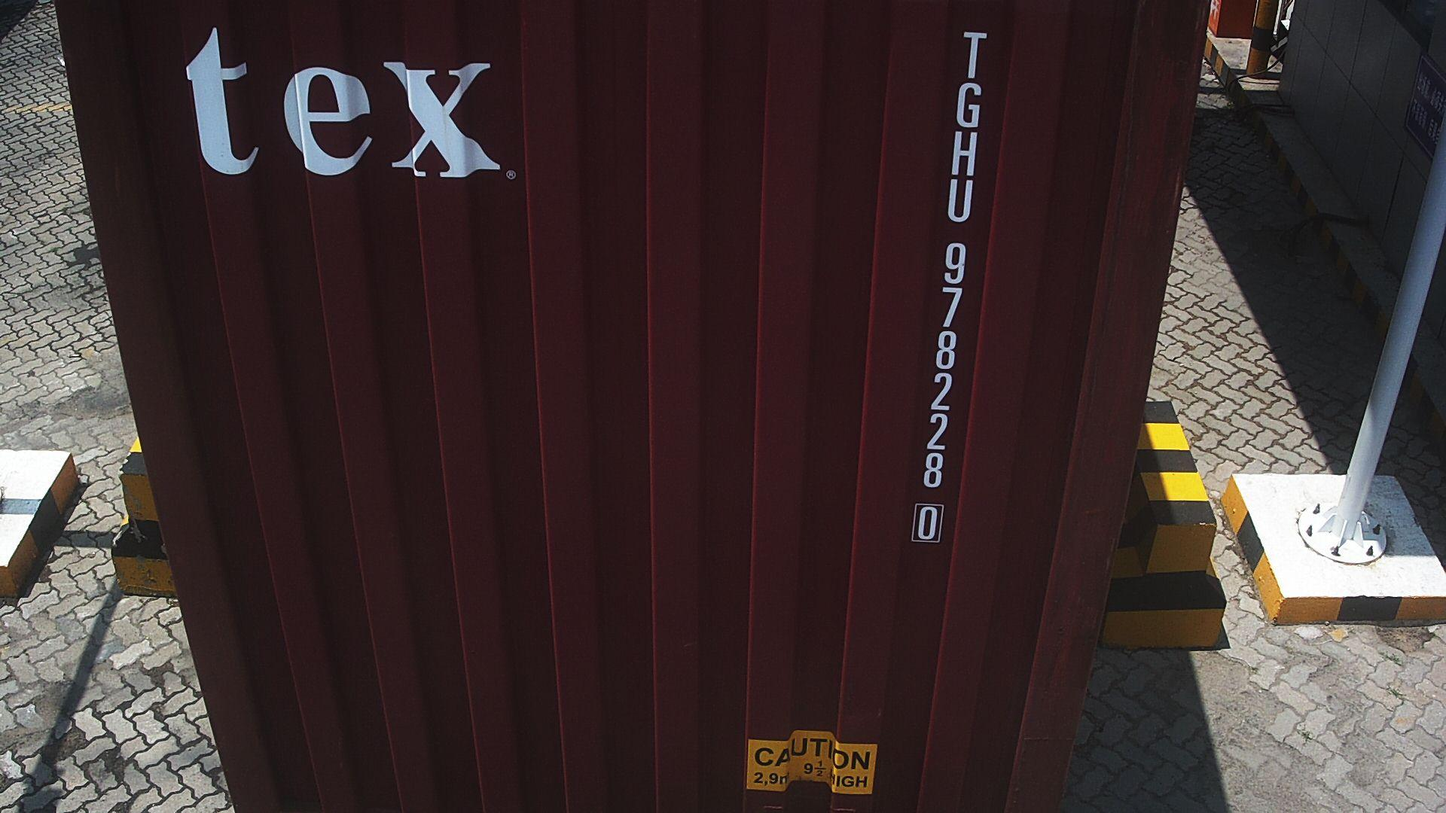container-numbers: (907, 27, 990, 549)
